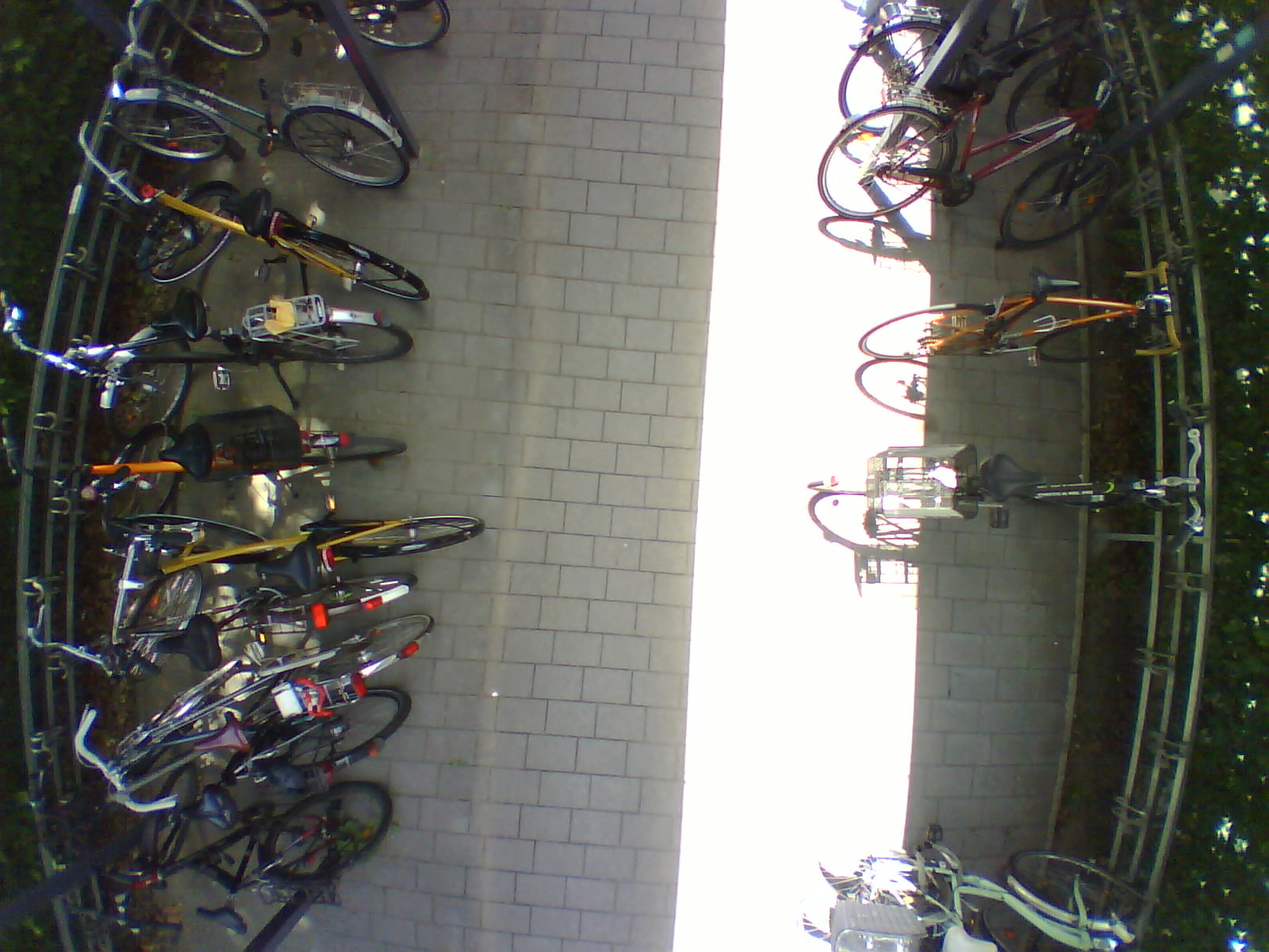bicylce: (817, 52, 1123, 248), (100, 618, 425, 772), (65, 293, 418, 433), (802, 429, 1183, 554), (806, 819, 1150, 951), (111, 39, 410, 186), (106, 165, 429, 301), (44, 776, 388, 898), (54, 682, 409, 799), (65, 580, 416, 697), (836, 0, 1120, 135), (123, 509, 485, 605), (856, 260, 1188, 361), (46, 423, 408, 515)
saddle: (982, 445, 1052, 504), (154, 610, 223, 668), (171, 777, 243, 830), (256, 539, 322, 594), (214, 184, 276, 236), (149, 288, 210, 340), (189, 901, 257, 945), (158, 428, 217, 478), (189, 712, 254, 752), (1028, 263, 1086, 303), (963, 54, 1015, 91), (940, 920, 998, 952)
